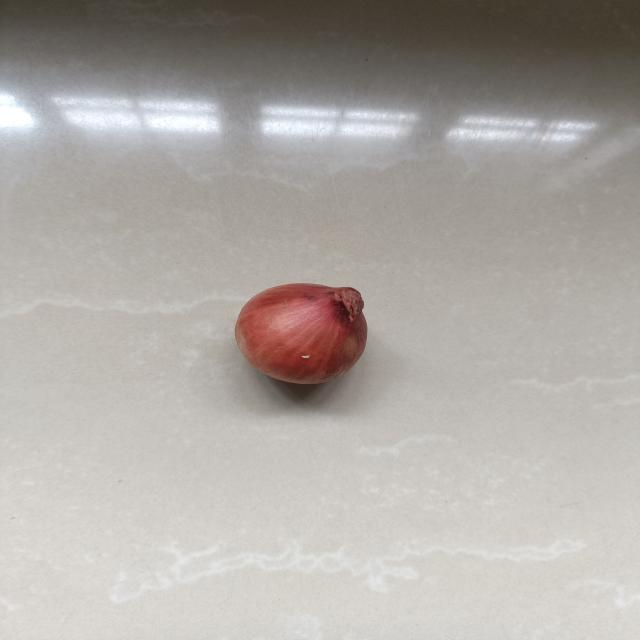onion: (232, 278, 374, 391)
